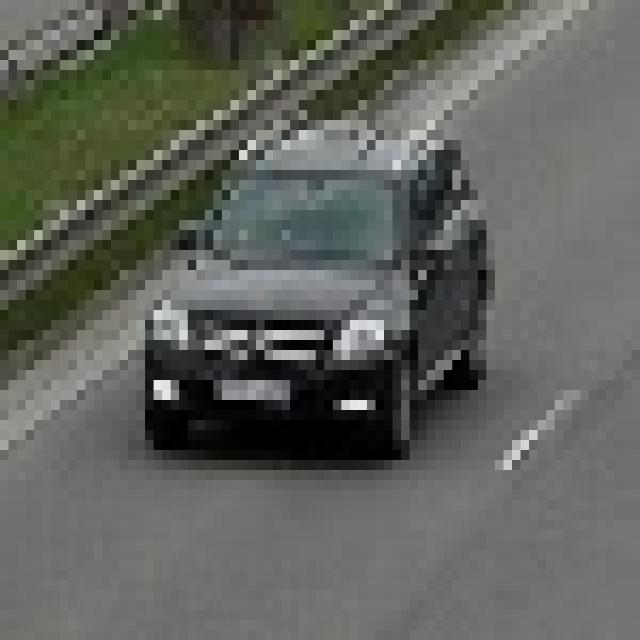SUV: (160, 130, 481, 447)
